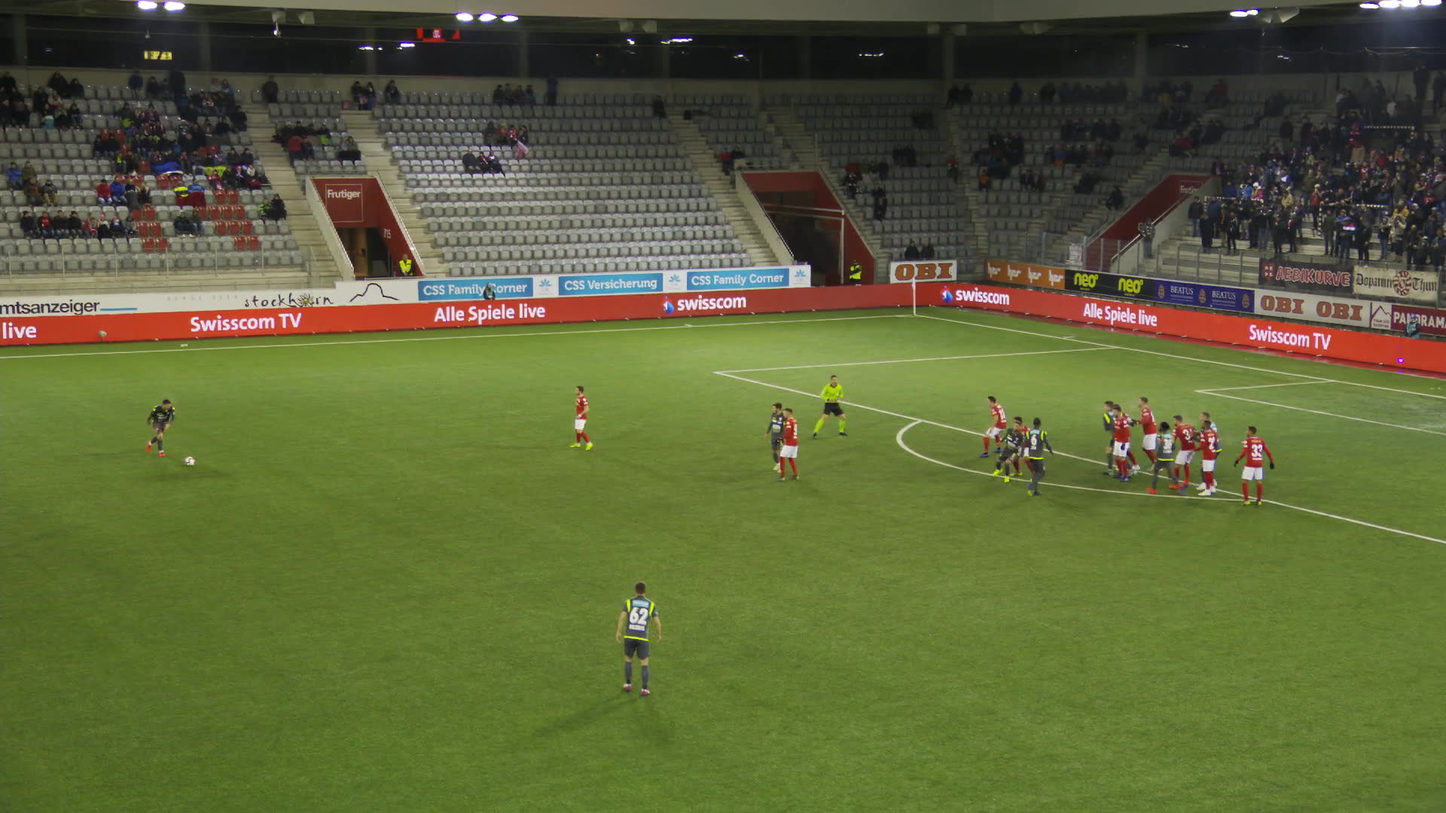ball: (185, 456, 194, 466)
player: (611, 580, 657, 693), (1231, 426, 1270, 505), (1102, 399, 1133, 476), (1020, 415, 1047, 495), (1164, 414, 1193, 488), (1135, 400, 1162, 475), (1192, 421, 1219, 492), (1152, 425, 1179, 495), (991, 418, 1021, 479), (1194, 415, 1222, 480), (762, 401, 787, 471), (1012, 412, 1036, 480), (979, 395, 1005, 456), (564, 386, 589, 449), (148, 394, 172, 455), (776, 407, 796, 479), (1117, 403, 1138, 470), (1109, 407, 1128, 481)
referee: (813, 373, 847, 439)
